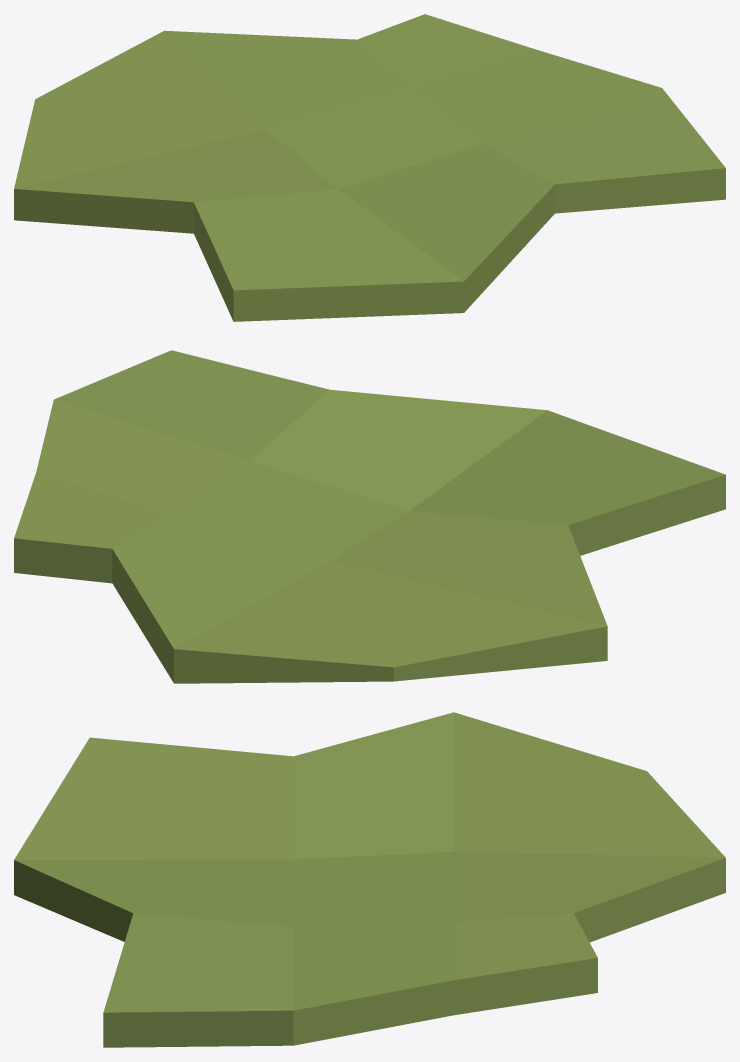
The model's file is Gras2.fbx.
3 views of the same model, one above another, from view 1: azimuth 30°, elevation 25°; view 2: azimuth 150°, elevation 25°; view 3: azimuth 270°, elevation 25° (orthographic). The views are drawn at different scales.
Visible parts, largest first — view 1: Gras2; view 2: Gras2; view 3: Gras2.
Part boxes in pixels (bbox=[...]): Gras2: bbox=[14, 14, 725, 321]; Gras2: bbox=[14, 350, 725, 683]; Gras2: bbox=[14, 712, 725, 1047].
Size of the model in its own units: 142 by 12.78 by 137.
